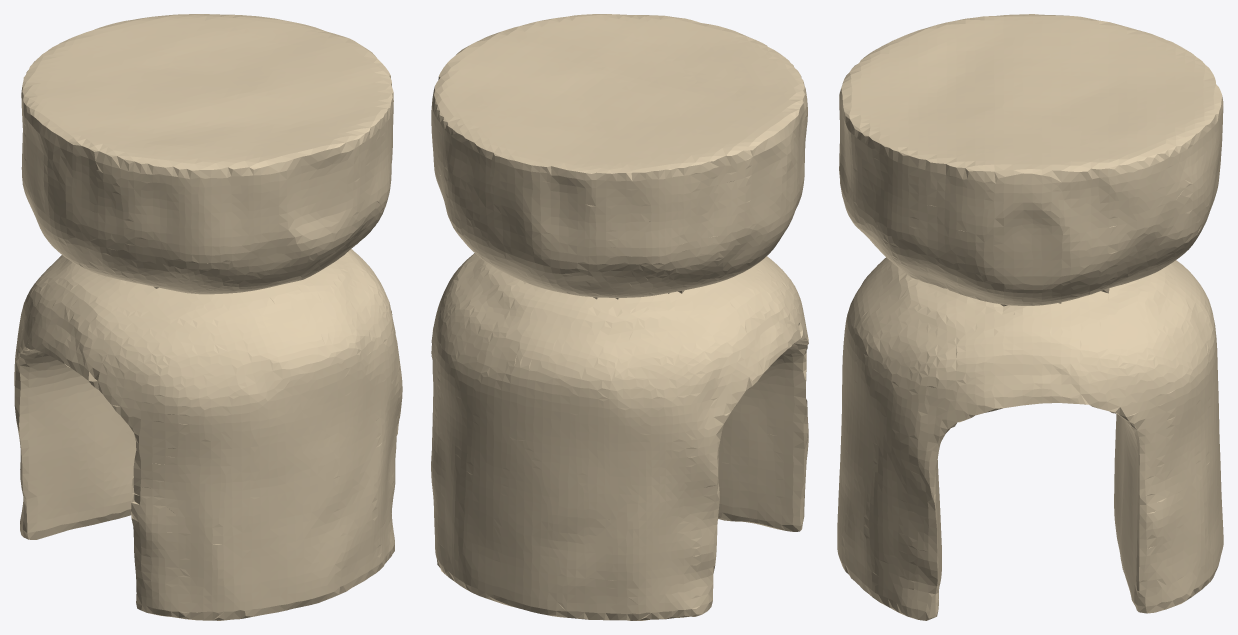
Rendered from stolform-07.glb.
The picture shows the model from 3 angles, left to right: view 1: azimuth 30°, elevation 25°; view 2: azimuth 150°, elevation 25°; view 3: azimuth 270°, elevation 25°; orthographic projection.
Parts seen in each view (by area): view 1: stolform-07; view 2: stolform-07; view 3: stolform-07.
Boxes of the visible parts, x1,y1,x2,y2 form: stolform-07: [14, 14, 402, 620]; stolform-07: [431, 14, 808, 620]; stolform-07: [837, 14, 1223, 620].
Size of the model in its own units: 0.7483 by 0.9996 by 0.7513.
